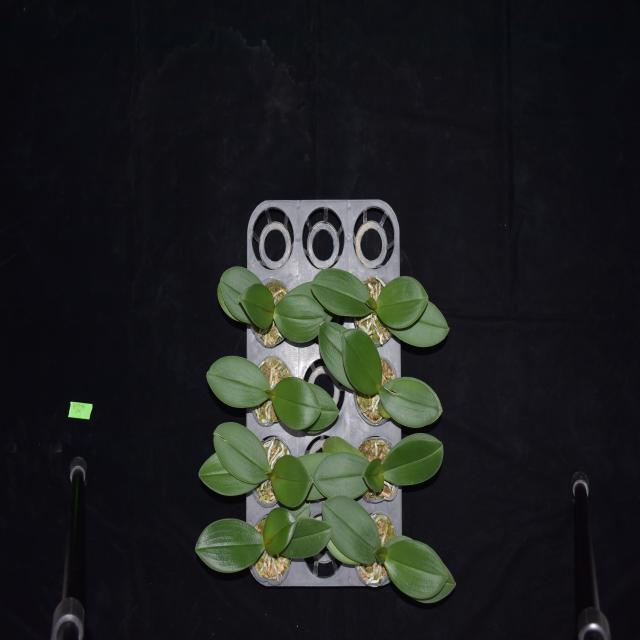leaf: (384, 542, 456, 604), (381, 288, 450, 348), (318, 324, 376, 392), (196, 516, 264, 570), (272, 381, 338, 435), (270, 280, 327, 341), (216, 423, 272, 484), (208, 357, 271, 411), (382, 432, 446, 485), (311, 268, 374, 321), (322, 502, 379, 560), (376, 380, 445, 425), (264, 511, 328, 556), (216, 266, 267, 322), (342, 328, 381, 396), (377, 274, 428, 325), (317, 447, 370, 496), (198, 451, 254, 495), (274, 376, 320, 428), (266, 455, 312, 504), (238, 283, 275, 334), (264, 507, 297, 552), (362, 456, 384, 492)
